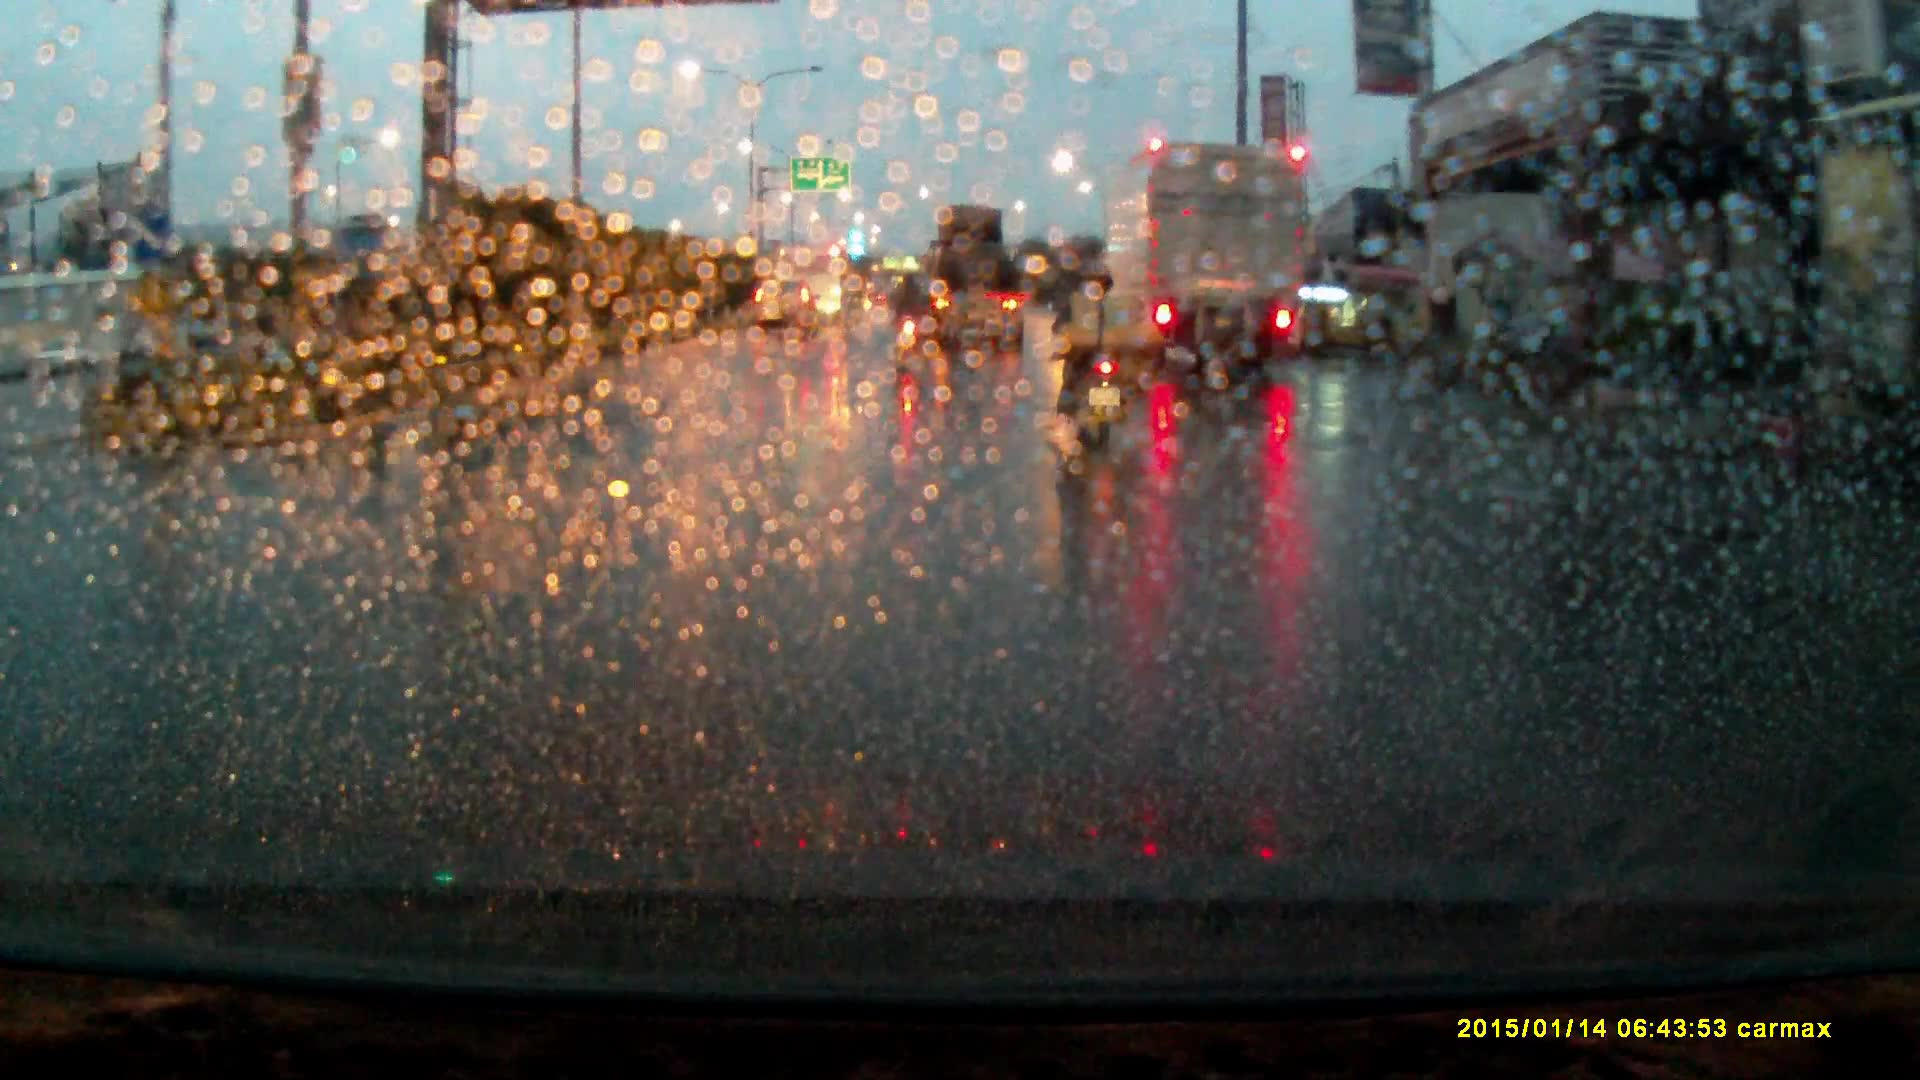rider: (1054, 255, 1139, 451), (891, 268, 930, 360)
vehicle: (1098, 141, 1311, 383), (918, 212, 1025, 363), (781, 244, 856, 327), (752, 285, 824, 351)
